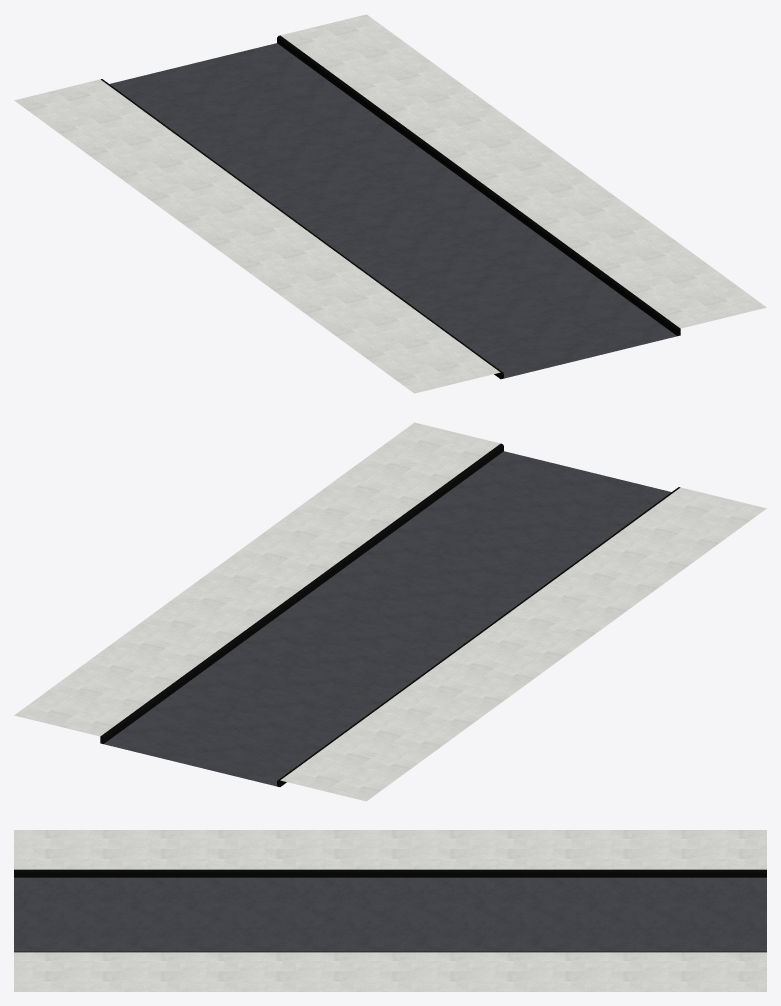
File: calle 1 carril y estacionamiento.fbx
3 renders of one model, top to bottom at view 1: azimuth 30°, elevation 25°; view 2: azimuth 150°, elevation 25°; view 3: azimuth 270°, elevation 25°, orthographic. The views are drawn at different scales.
Visible parts, largest first — view 1: Callle 1 carril con un lugar para estacionar.013; view 2: Callle 1 carril con un lugar para estacionar.013; view 3: Callle 1 carril con un lugar para estacionar.013.
Part boxes in pixels (<box>): Callle 1 carril con un lugar para estacionar.013: <box>14,14,766,393</box>; Callle 1 carril con un lugar para estacionar.013: <box>14,422,766,801</box>; Callle 1 carril con un lugar para estacionar.013: <box>14,830,766,991</box>.
Size of the model in its own units: 1017 by 18.89 by 2000.
3 materials, 3 textured.
